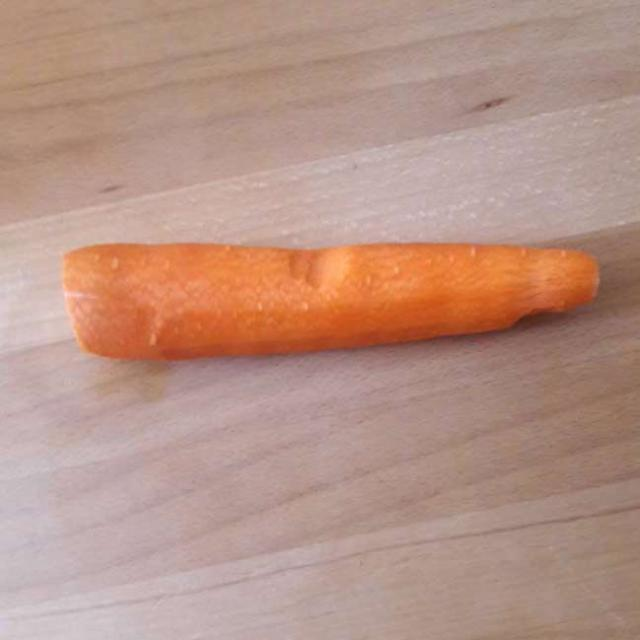carrot: (67, 245, 597, 362)
